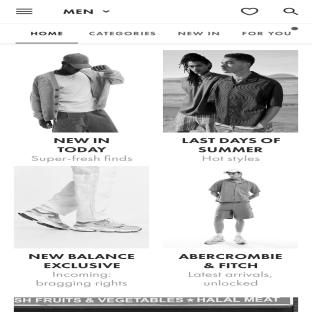Dropdown: (59, 6, 114, 17)
Hamburger icon: (12, 5, 40, 18)
Search Icon: (282, 7, 300, 18)
T shirt: (211, 77, 283, 127), (174, 76, 227, 119), (59, 52, 97, 70)
love icon: (236, 6, 263, 16)
